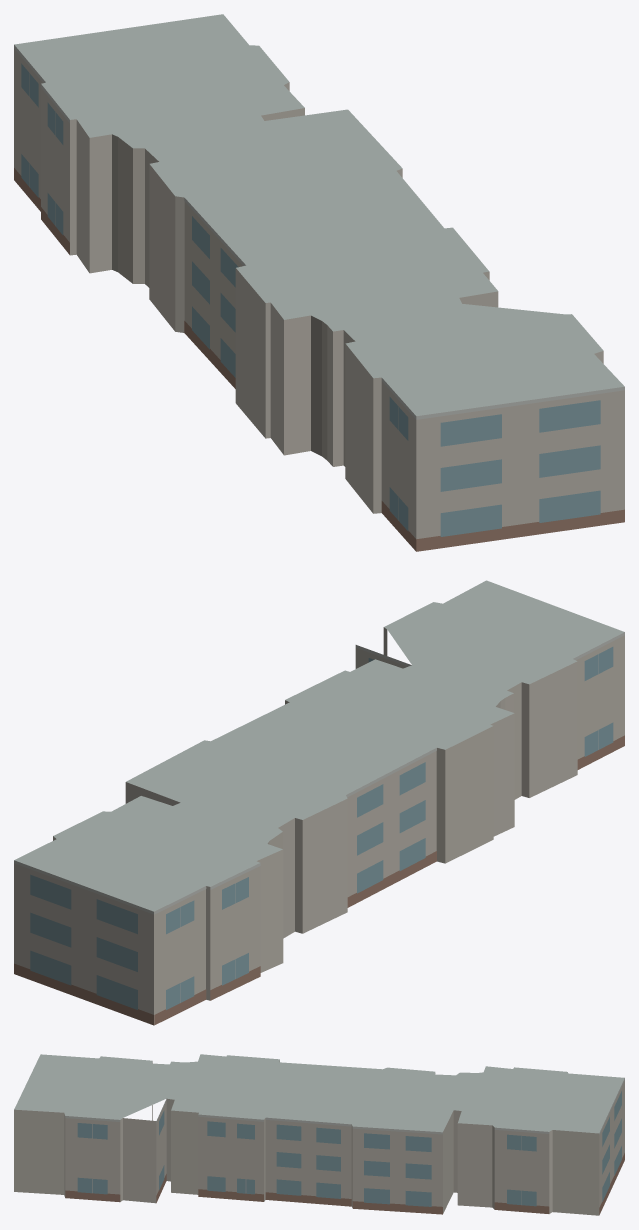
Rendered from survey-upis-32980108.glb.
3 views of the same model, one above another, from view 1: azimuth 30°, elevation 25°; view 2: azimuth 150°, elevation 25°; view 3: azimuth 270°, elevation 25° (orthographic). The views are drawn at different scales.
Parts seen in each view (by area): view 1: survey-upis-32980108.tmp; view 2: survey-upis-32980108.tmp; view 3: survey-upis-32980108.tmp.
Part boxes in pixels (bbox=[...]): survey-upis-32980108.tmp: bbox=[14, 14, 624, 551]; survey-upis-32980108.tmp: bbox=[14, 580, 624, 1025]; survey-upis-32980108.tmp: bbox=[14, 1054, 624, 1215].
Bounding box in the file's own units: 18.92 × 9.15 × 61.6.
